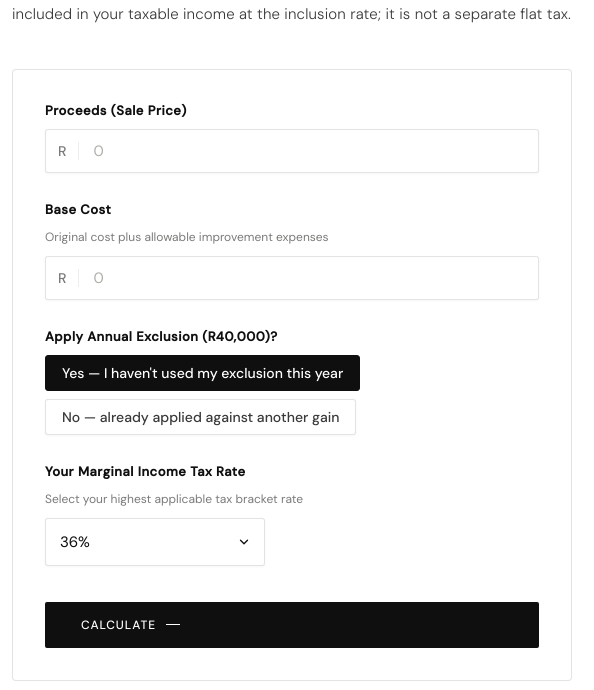
Test: CgtCalculator › GIVEN a capital gain with the annual exclusion applied › WHEN exclusion is applied, THEN the Annual Exclusion row (R 40,000) appears in the breakdown
Type "500000" into the number field with placeholder "0" below "Proceeds (Sale Price)". click: [309, 150]
box: [80,130,538,172]
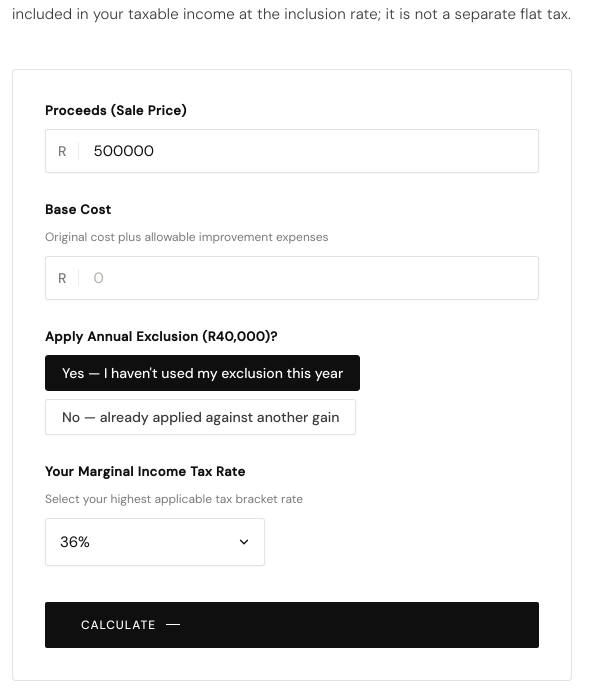
Type "200000" into the number field with placeholder "0". click: [309, 278]
box: [80,256,538,298]
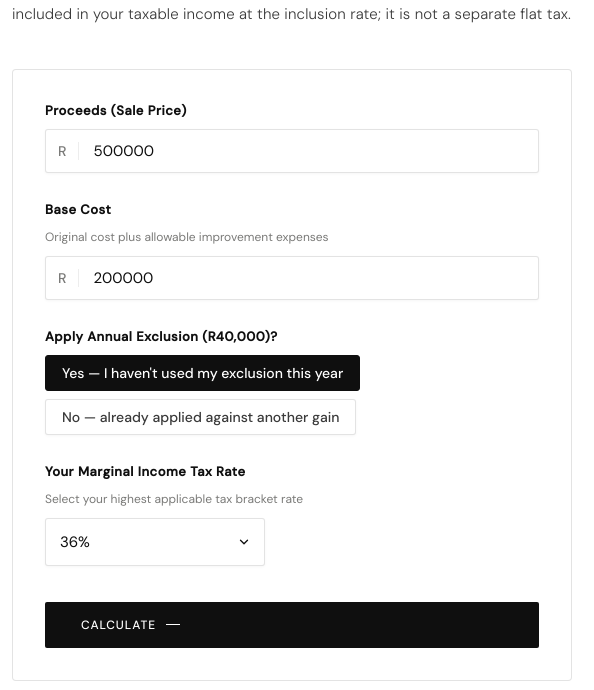
Select "36%" in the dropdown. click: [155, 542]
box: [45,518,265,566]
Click the button with class "calc-submit". click: [119, 624]
box: [45,602,539,648]
(page scrolled)
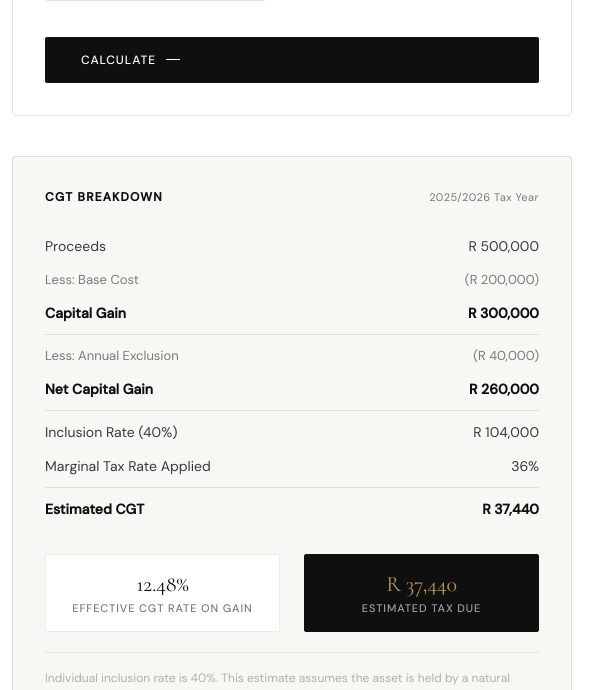
expect the element with class "calc-breakdown" shows "Annual Exclusion": met, box [45,346,179,364]
